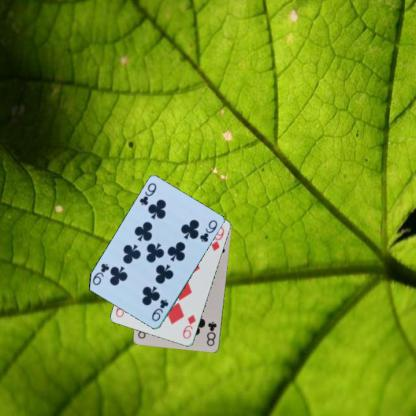8c: (204, 319, 218, 347)
9c: (137, 180, 158, 207), (149, 297, 170, 323)
9d: (180, 312, 197, 340)
